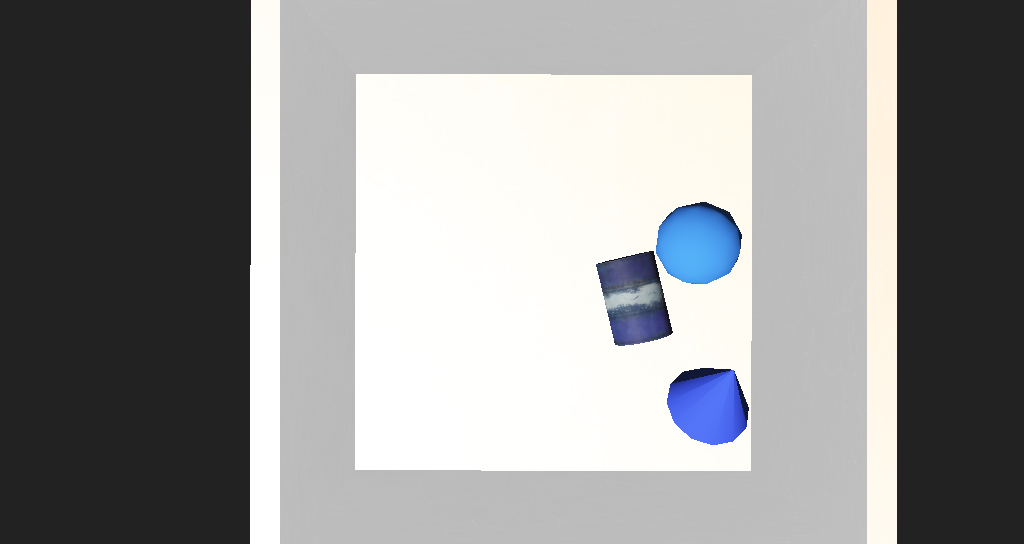cone: (532, 258, 600, 305)
cylinder: (586, 298, 667, 370)
sphere: (579, 229, 647, 277)
